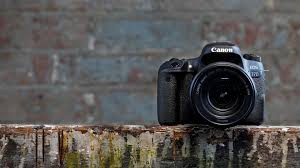camera: (157, 53, 264, 125)
